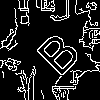B: (27, 22, 83, 78)
